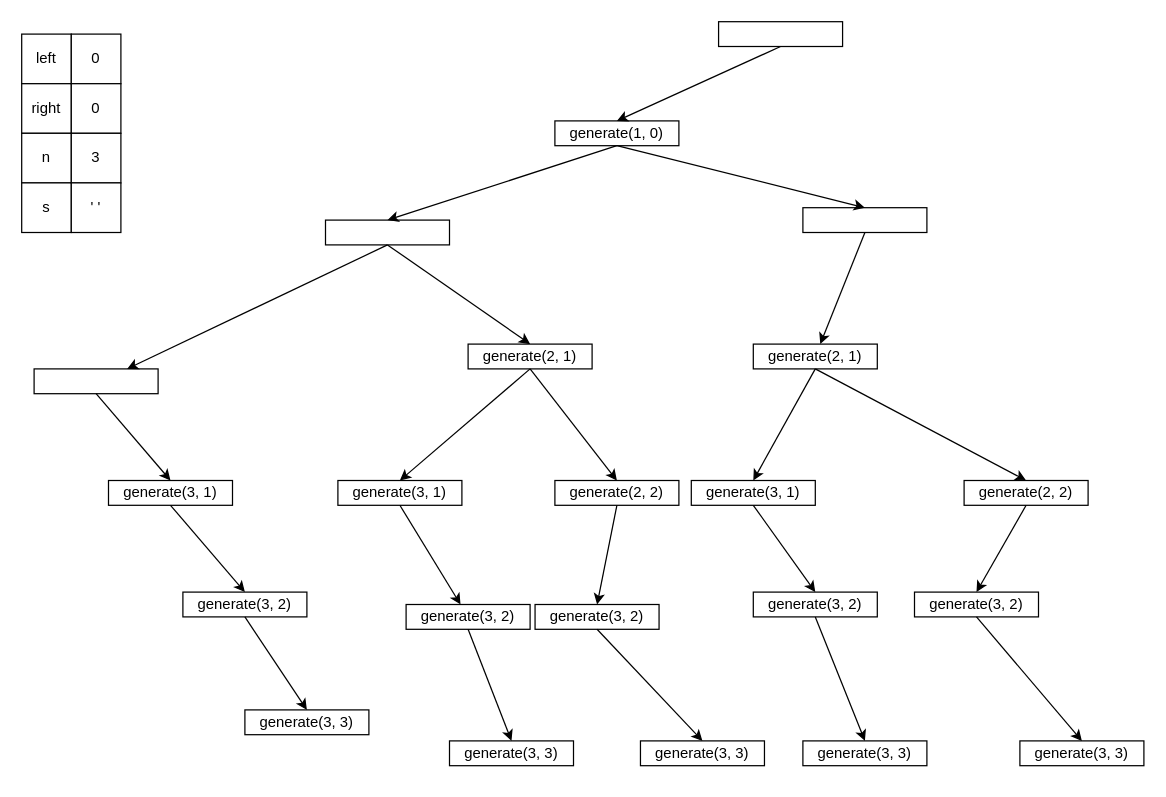
This 1166x797 diagram has some shape labels left out. The shapes that lost their labels are listed below. From the top down, each one's centre as x and y in pixels, then its label:
(780,33): generate(0, 0)
(387,232): generate(2, 0)
(864,219): generate(1, 1)
(95,381): generate(3, 0)
